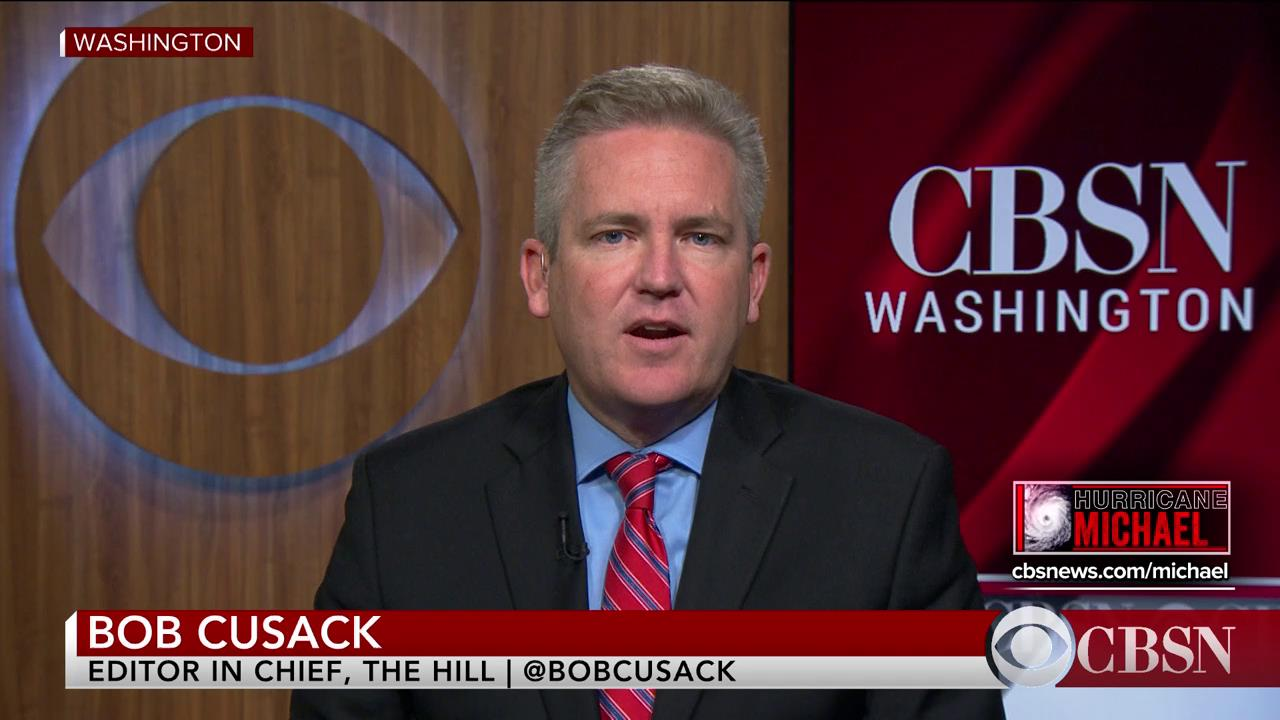BOB CUSACK: (86, 612, 386, 651)
CBSN: (885, 163, 1245, 276), (1077, 623, 1238, 678)
EDITOR IN CHIEF__ THE HILL | @BOBCUSACK: (87, 657, 739, 689)
HURRICANE: (1073, 486, 1227, 510)
MICHAEL: (1072, 511, 1210, 550)
WASHINGTON: (863, 288, 1256, 338), (71, 29, 243, 52)
cbsnews.com/michael: (1011, 560, 1231, 583)
